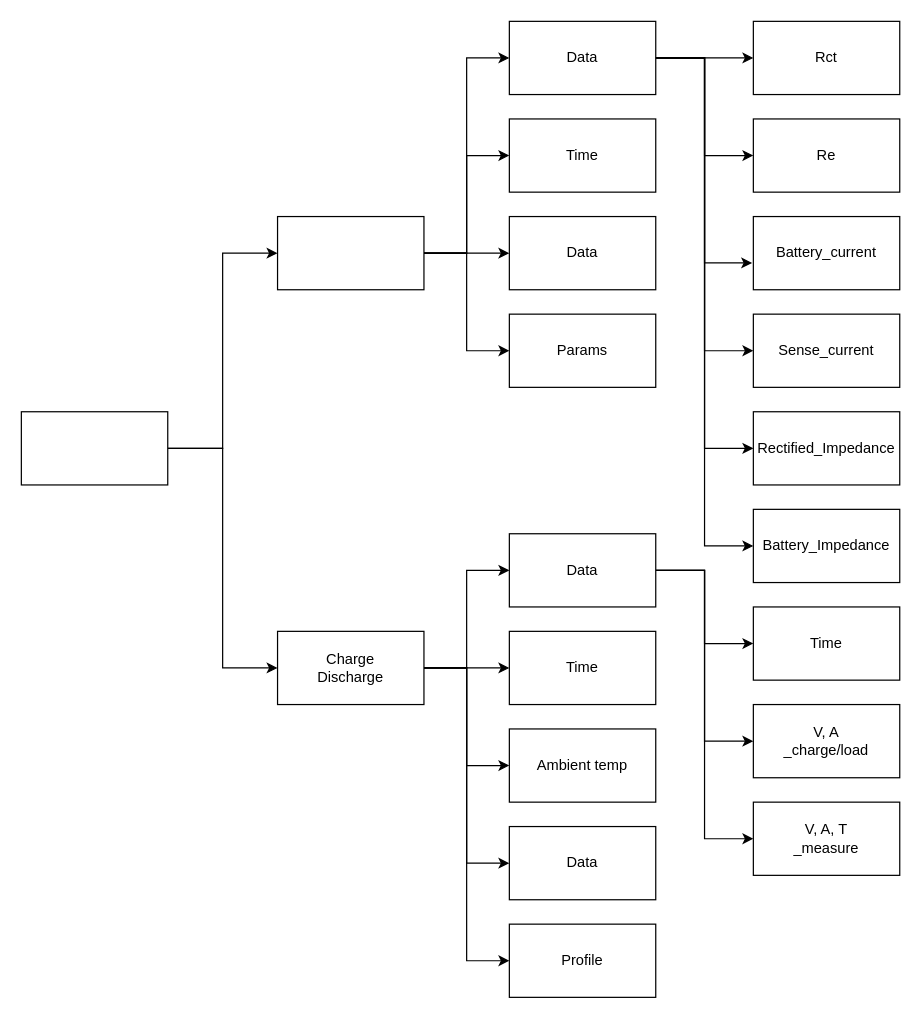
Some shapes in this 921 by 1019 pixel diagram are drawn without their labels. Here are the shapes that lost their labels. From the top down, the centre of each, then its label:
At (x=350, y=252): "Impedance".
At (x=94, y=448): "Cycle".
